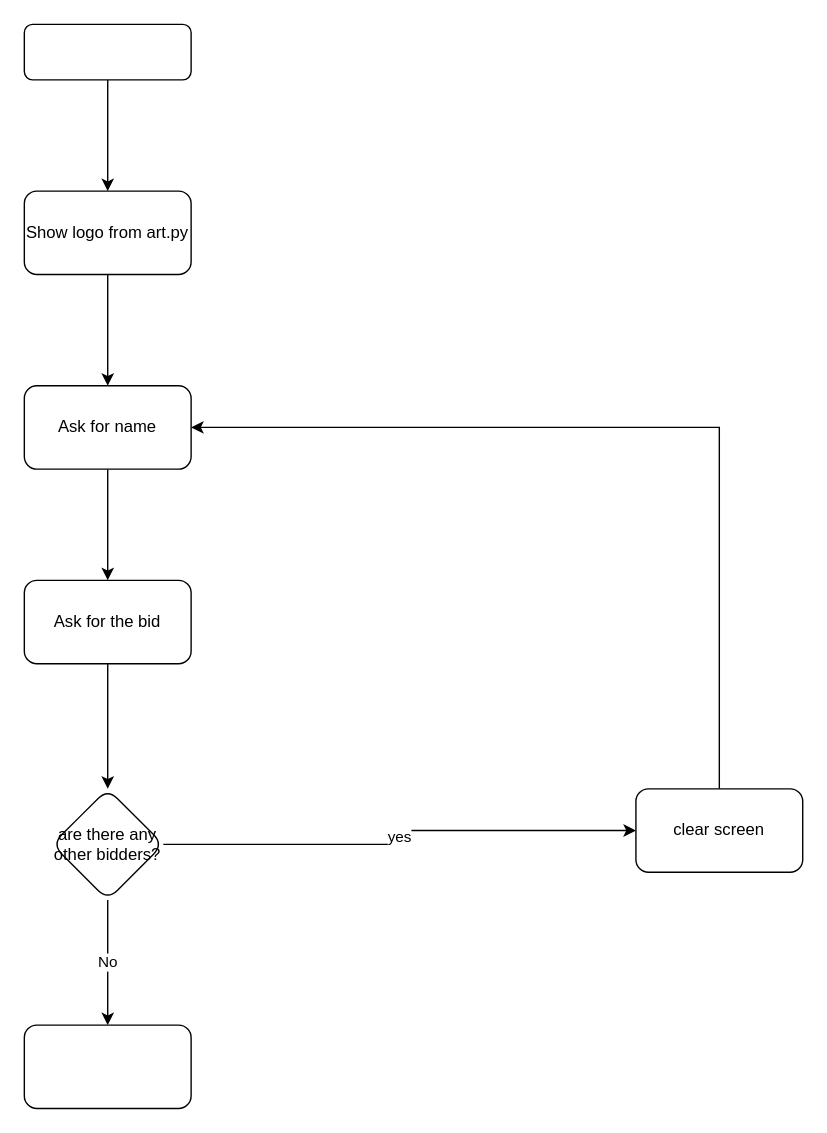
Image size: 827x1133. Some labels were removed from this diagram. Here are the shapes that lost their labels. From the top down, the centre of each, then its label:
At (x=107, y=51): "start".
At (x=107, y=1066): "Find the highest bid in the dictionary and declare them the winner".
